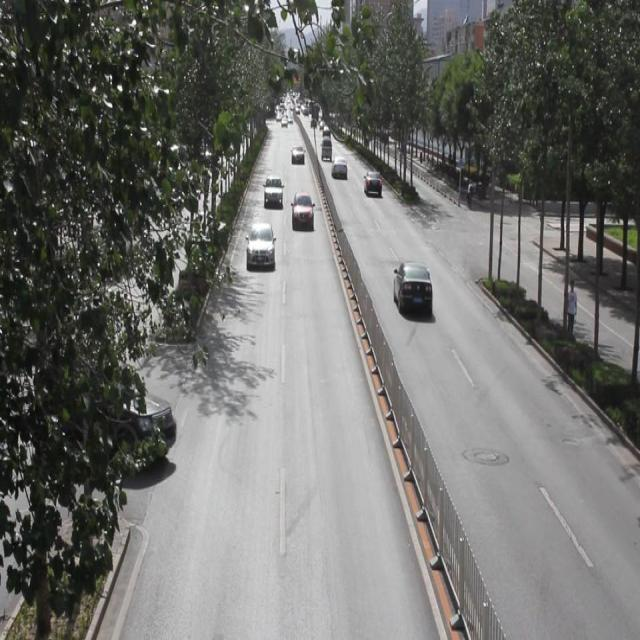car: (60, 352, 174, 471), (393, 260, 431, 316), (246, 220, 275, 266), (291, 191, 314, 229), (264, 173, 284, 207), (363, 167, 383, 197), (331, 154, 348, 178), (290, 143, 304, 166)
truck: (319, 134, 332, 160)
